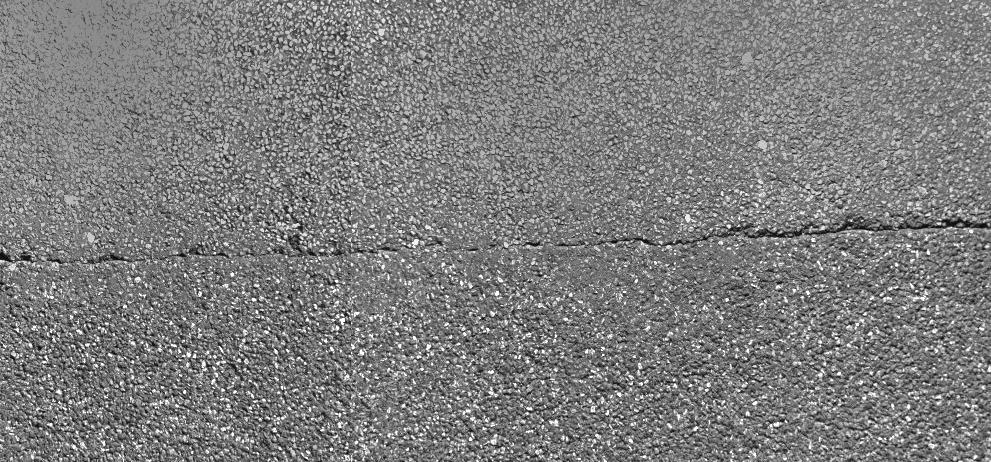crack: (7, 219, 991, 261)
